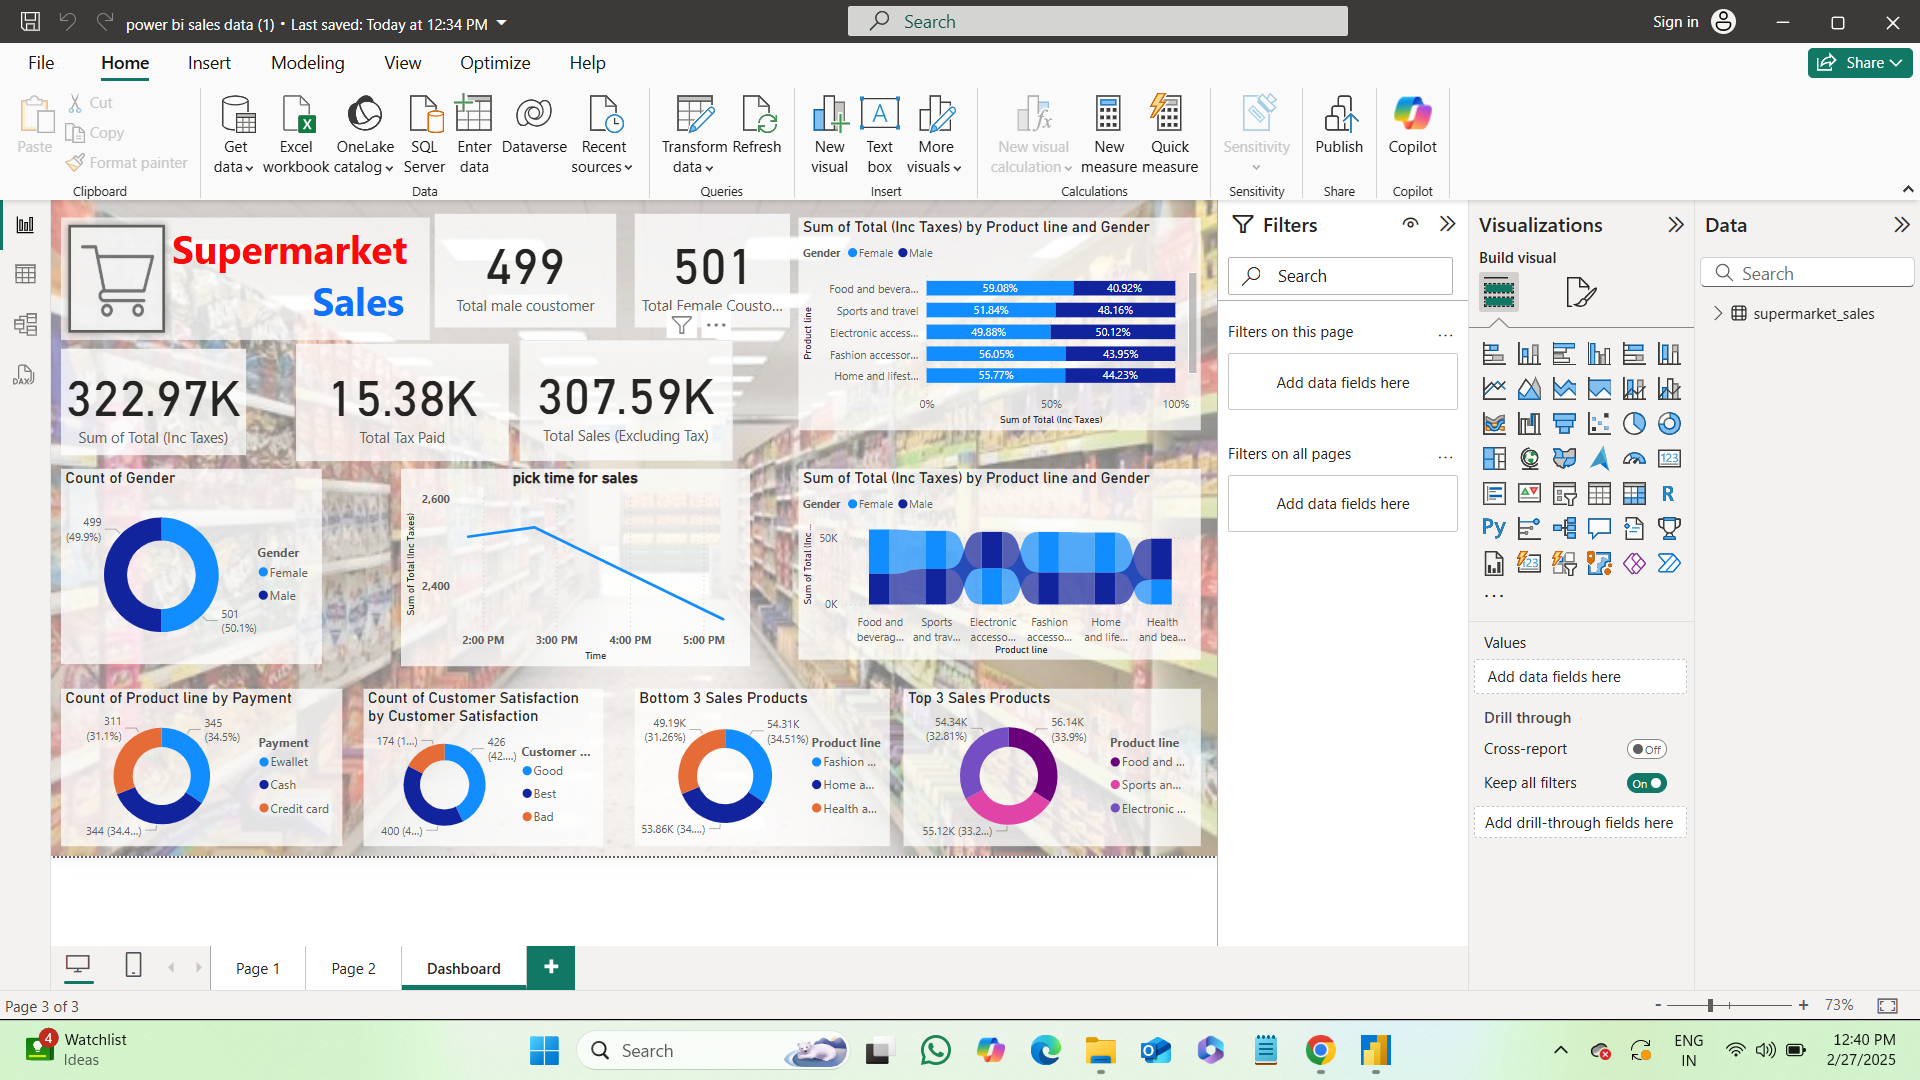

Layout of this report page (visuals, bound fields, positions):
{"tool":"powerbi","page":{"name":"Dashboard","canvas":[1280,720],"ordinal":3},"visuals":[{"type":"hundredPercentStackedBarChart","fields":{"Category":["Supermarket Sales.Product line"],"Y":["Sum(Supermarket Sales.Total (Inc Taxes))"],"Series":["Supermarket Sales.Gender"]},"box":[787.2,12.2,480.4,235.9],"z":0},{"type":"ribbonChart","fields":{"Category":["Supermarket Sales.Product line"],"Y":["Sum(Supermarket Sales.Total (Inc Taxes))"],"Series":["Supermarket Sales.Gender"]},"box":[787.2,255.2,480.5,215.4],"z":1000},{"type":"donutChart","title":"Count of Gender","fields":{"Category":["Supermarket Sales.Gender"],"Y":["CountNonNull(Supermarket Sales.Gender)"]},"box":[957,480.5,310.9,227.5],"z":2000},{"type":"donutChart","title":"Customer Satisfaction","fields":{"Category":["Supermarket Sales.Customer Satisfection"],"Y":["CountNonNull(Supermarket Sales.Customer Satisfection)"]},"box":[10.8,480.5,258.4,230.2],"z":3000},{"type":"donutChart","title":"Top 3 Sales by Products","fields":{"Y":["Supermarket Sales.Sales + Tax"],"Category":["Supermarket Sales.Product line"]},"box":[608.8,480.4,337.4,229.8],"z":4000},{"type":"donutChart","fields":{"Category":["Supermarket Sales.Payment"],"Y":["CountNonNull(Supermarket Sales.Product line)"]},"box":[11,264.1,258,206.7],"z":5000},{"type":"donutChart","title":"Last 3 Sales by Products","fields":{"Y":["Supermarket Sales.Sales + Tax"],"Category":["Supermarket Sales.Product line"]},"box":[278.6,480.5,323,230.2],"z":6000},{"type":"card","fields":{"Values":["Supermarket Sales.Sales - Tax"]},"box":[553.2,143.4,224.8,103.6],"z":7000},{"type":"card","fields":{"Values":["Sum(Supermarket Sales.Tax 5%)"]},"box":[242.1,138.2,264.1,105.2],"z":8000},{"type":"card","fields":{"Values":["Sum(Supermarket Sales.Total (Inc Taxes))"]},"box":[11,143.1,220.1,103.9],"z":9000},{"type":"card","fields":{"Values":["CountNonNull(Supermarket Sales.Gender)"]},"box":[457.2,9.8,152.8,128.4],"z":10000},{"type":"card","fields":{"Values":["CountNonNull(Supermarket Sales.Gender)"]},"box":[615.1,9.4,162.9,129.2],"z":11000},{"type":"textbox","box":[10.8,9.4,440.1,129.2],"z":12000},{"type":"lineChart","title":"Pick Time for Sales","fields":{"Category":["Supermarket Sales.Time"],"Y":["Sum(Supermarket Sales.Total (Inc Taxes))"]},"box":[311.8,264.1,465.9,206.7],"z":13000},{"type":"actionButton","box":[0,0,139.4,139.4],"z":13001}]}

Visuals, with their boxes on the page's 1280x720 design canvas (x1, y1, x2, y2). These are canvas units, not pixel positions in the 1920x1080 screenshot, which may show the page scaled, cropped or inside an application window:
hundredPercentStackedBarChart - Supermarket Sales.Product line x Sum(Supermarket Sales.Total (Inc Taxes)): box(787, 12, 1268, 248)
ribbonChart - Supermarket Sales.Product line x Sum(Supermarket Sales.Total (Inc Taxes)): box(787, 255, 1268, 471)
"Count of Gender" donutChart: box(957, 480, 1268, 708)
"Customer Satisfaction" donutChart: box(11, 480, 269, 711)
"Top 3 Sales by Products" donutChart: box(609, 480, 946, 710)
donutChart - Supermarket Sales.Payment x CountNonNull(Supermarket Sales.Product line): box(11, 264, 269, 471)
"Last 3 Sales by Products" donutChart: box(279, 480, 602, 711)
card - Supermarket Sales.Sales - Tax: box(553, 143, 778, 247)
card - Sum(Supermarket Sales.Tax 5%): box(242, 138, 506, 243)
card - Sum(Supermarket Sales.Total (Inc Taxes)): box(11, 143, 231, 247)
card - CountNonNull(Supermarket Sales.Gender): box(457, 10, 610, 138)
card - CountNonNull(Supermarket Sales.Gender): box(615, 9, 778, 139)
textbox: box(11, 9, 451, 139)
"Pick Time for Sales" lineChart: box(312, 264, 778, 471)
actionButton: box(0, 0, 139, 139)
